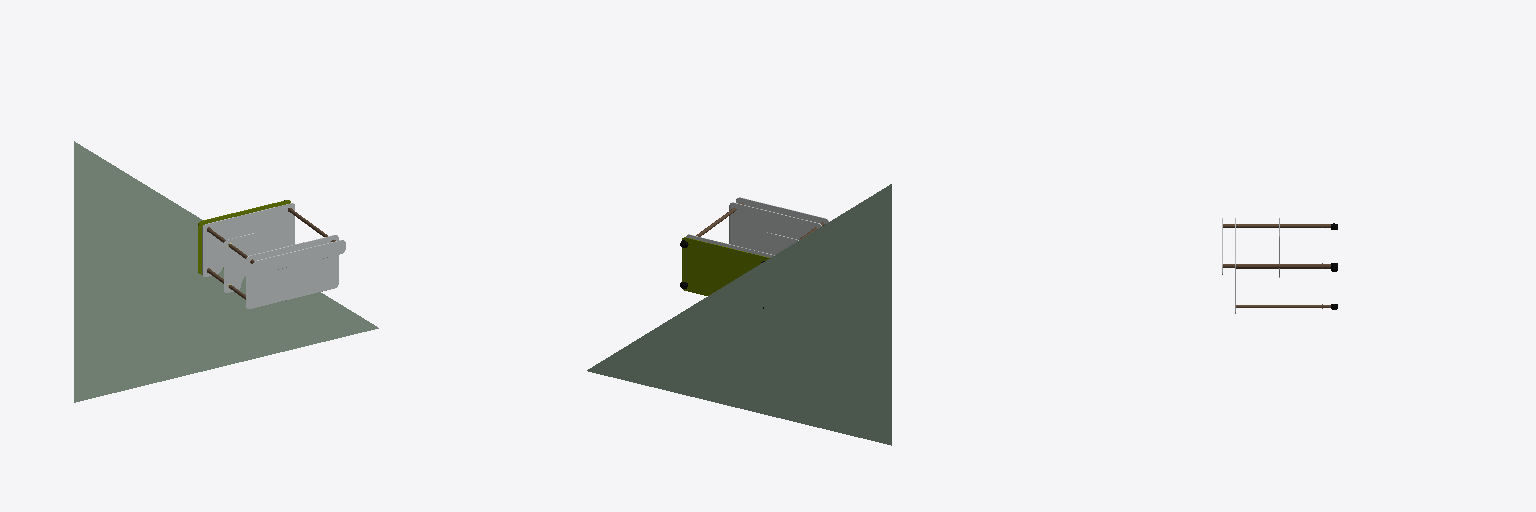
File: Furniture11.obj
3 views of the same model, side by side, from view 1: azimuth 30°, elevation 25°; view 2: azimuth 150°, elevation 25°; view 3: azimuth 270°, elevation 25° (orthographic).
Visible parts, largest first — view 1: Plane01, Rectangle01, Rectangle05, Rectangle03, Rectangle02, Rectangle04; view 2: Plane01, Rectangle04, Rectangle01, Rectangle03; view 3: none.
Part boxes in pixels (left/top/right/bottom): Plane01: left=74, top=141, right=378, bottom=402; Rectangle01: left=246, top=235, right=338, bottom=308; Rectangle05: left=202, top=203, right=294, bottom=276; Rectangle03: left=253, top=240, right=345, bottom=274; Rectangle02: left=224, top=233, right=259, bottom=292; Rectangle04: left=198, top=200, right=290, bottom=274; Plane01: left=587, top=184, right=891, bottom=445; Rectangle04: left=682, top=237, right=769, bottom=295; Rectangle01: left=729, top=202, right=821, bottom=252; Rectangle03: left=736, top=197, right=828, bottom=223.
Bounding box in the file's own units: 947 × 775 × 313.